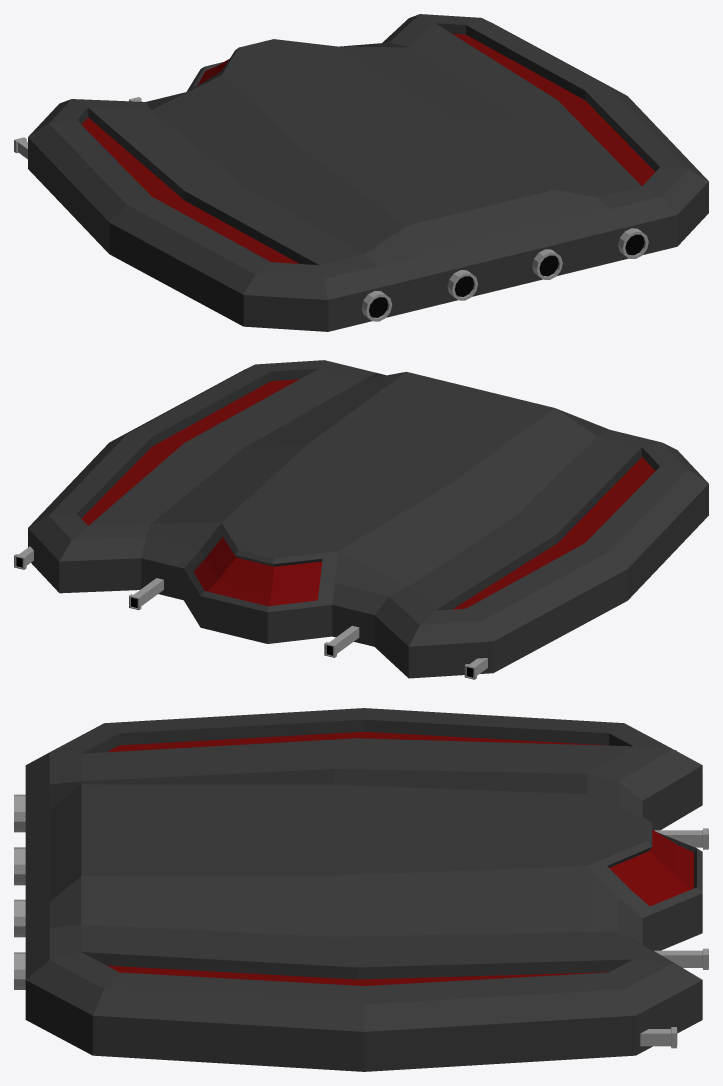
Rendered from LargeEnemyShip.fbx.
3 views of the same model, one above another, from view 1: azimuth 30°, elevation 25°; view 2: azimuth 150°, elevation 25°; view 3: azimuth 270°, elevation 25° (orthographic). The views are drawn at different scales.
Parts seen in each view (by area): view 1: LargeEnemyShip; view 2: LargeEnemyShip; view 3: LargeEnemyShip.
Boxes of the visible parts, x1,y1,x2,y2 form: LargeEnemyShip: [14, 14, 708, 331]; LargeEnemyShip: [14, 360, 708, 679]; LargeEnemyShip: [14, 708, 708, 1071].
Bounding box in the file's own units: 8.91 × 8.21 × 1.32.
